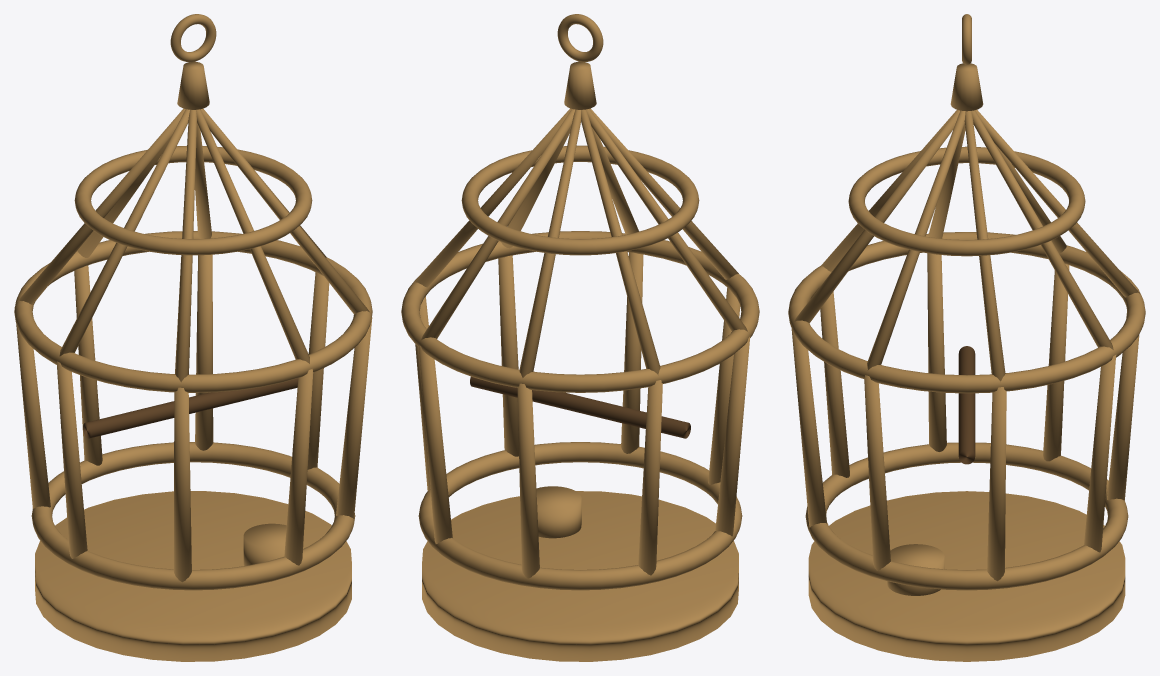
The model's file is 3D模型 props_birdcage.glb.
3 renders of one model, left to right at view 1: azimuth 30°, elevation 25°; view 2: azimuth 150°, elevation 25°; view 3: azimuth 270°, elevation 25°, orthographic.
Parts seen in each view (by area): view 1: part_tray, Torus.001, Torus.002, Torus.003, part_rib_lo_6, part_rib_lo_4, part_rib_lo_5, part_rib_lo_7, part_rib_hi_4, part_rib_hi_6, part_rib_hi_5, part_perch (+11 smaller); view 2: part_tray, Torus.001, Torus.002, Torus.003, part_rib_lo_2, part_rib_lo_1, part_rib_lo_3, part_rib_lo_4, part_rib_hi_3, part_rib_hi_2, part_rib_hi_1, part_rib_hi_4 (+12 smaller); view 3: part_tray, Torus.001, Torus.002, Torus.003, part_rib_lo_1, part_rib_lo_7, part_rib_lo_0, part_rib_lo_6, part_rib_hi_1, part_rib_hi_7, part_rib_lo_4, part_rib_hi_0 (+11 smaller).
Part boxes in pixels (x1,y1,x2,y2): part_tray: (35,491,351,661); Torus.001: (31,442,355,590); Torus.002: (14,231,372,392); Torus.003: (74,146,312,255); part_rib_lo_6: (284,369,313,565); part_rib_lo_4: (57,361,87,558); part_rib_lo_5: (173,387,191,582); part_rib_lo_7: (336,317,372,518); part_rib_hi_4: (59,109,189,356); part_rib_hi_6: (196,109,309,363); part_rib_hi_5: (175,109,196,382); part_perch: (83,378,298,438); part_tray: (422,491,738,661); Torus.001: (418,442,742,590); Torus.002: (401,231,759,392); Torus.003: (461,145,699,255); part_rib_lo_2: (517,383,539,578); part_rib_lo_1: (418,345,452,543); part_rib_lo_3: (638,380,662,575); part_rib_lo_4: (715,336,750,536); part_rib_hi_3: (581,109,660,375); part_rib_hi_2: (519,109,581,377); part_rib_hi_1: (421,109,575,340); part_rib_hi_4: (586,109,747,331); part_tray: (808,491,1125,661); Torus.001: (805,442,1128,590); Torus.002: (788,232,1145,393); Torus.003: (848,146,1085,256); part_rib_lo_1: (1084,354,1116,552); part_rib_lo_7: (864,375,890,570); part_rib_lo_0: (987,387,1006,581); part_rib_lo_6: (791,327,826,527); part_rib_hi_1: (971,110,1113,349); part_rib_hi_7: (867,110,965,370); part_rib_lo_4: (927,253,946,451); part_rib_hi_0: (964,111,1005,381).
Bounding box in the file's own units: 0.35 × 0.638 × 0.35.
